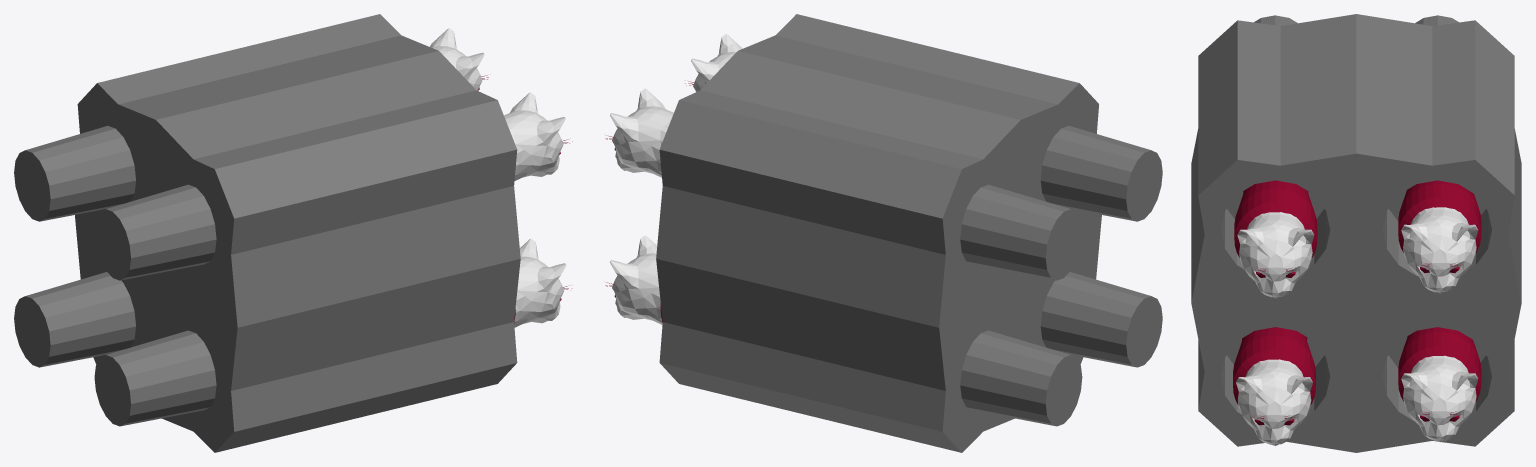
Rendered from catloncherv2.fbx.
3 views of the same model, side by side, from view 1: azimuth 30°, elevation 25°; view 2: azimuth 150°, elevation 25°; view 3: azimuth 270°, elevation 25° (orthographic).
Visible parts, largest first — view 1: Cube, rokete, rokete.004, rokete.002; view 2: Cube, rokete.002, rokete.003, rokete; view 3: Cube, rokete.004, rokete, rokete.003, rokete.002.
Part boxes in pixels (x1,y1,x2,y2): Cube: [14, 14, 520, 452]; rokete: [504, 92, 572, 180]; rokete.004: [514, 238, 572, 327]; rokete.002: [430, 28, 488, 90]; Cube: [656, 14, 1162, 452]; rokete.002: [605, 88, 673, 177]; rokete.003: [605, 235, 662, 324]; rokete: [685, 33, 742, 91]; Cube: [1191, 14, 1521, 452]; rokete.004: [1233, 327, 1315, 445]; rokete: [1234, 180, 1317, 298]; rokete.003: [1398, 327, 1481, 442]; rokete.002: [1398, 180, 1481, 293].
Size of the model in its own units: 318 by 200 by 200.
